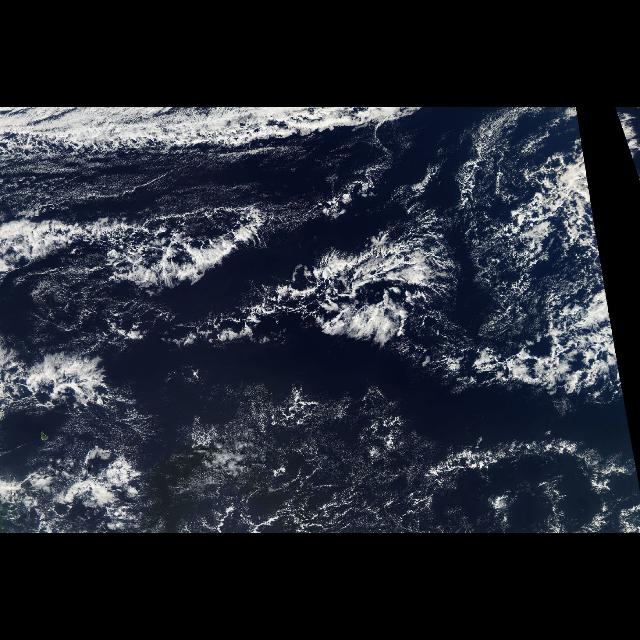Fish: (1, 180, 584, 398), (1, 107, 422, 149), (418, 429, 626, 507)
Gravel: (0, 421, 142, 533)
Sugar: (2, 134, 376, 220), (182, 411, 422, 533)
